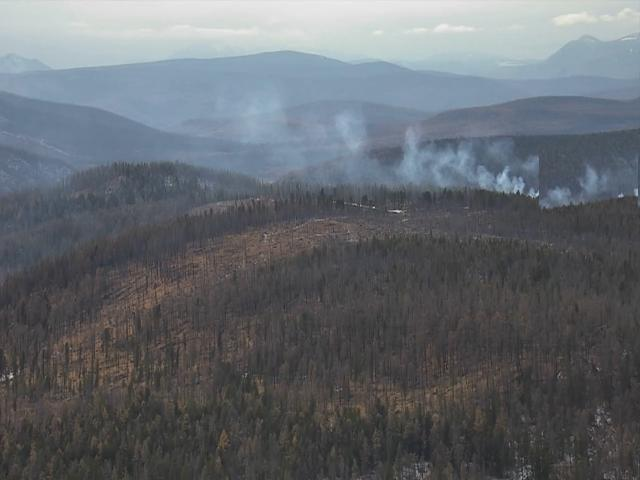smoke: (294, 101, 560, 200), (539, 145, 639, 215)
